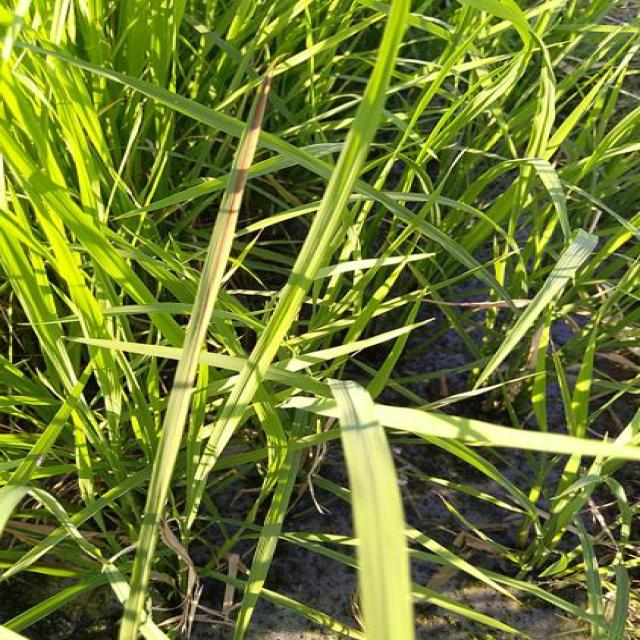Leaf Streak: (156, 77, 270, 510)
